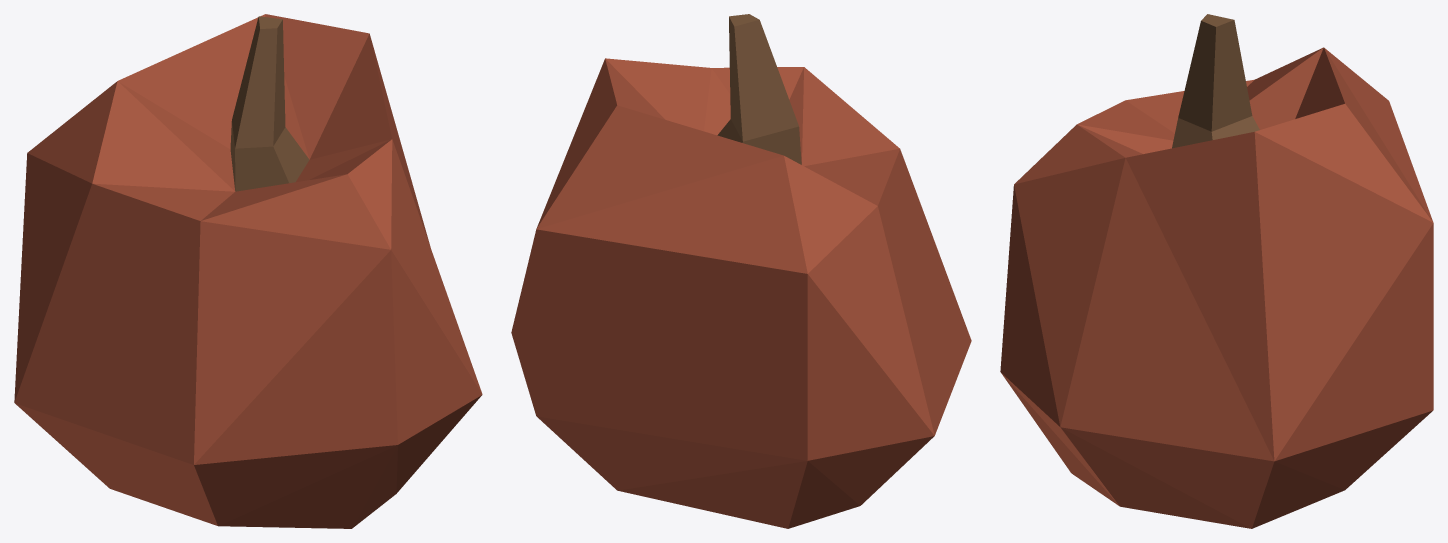
Rendered from fruit_b.glb.
3 renders of one model, left to right at view 1: azimuth 30°, elevation 25°; view 2: azimuth 150°, elevation 25°; view 3: azimuth 270°, elevation 25°, orthographic.
Parts seen in each view (by area): view 1: SM_Item_Fruit_02; view 2: SM_Item_Fruit_02; view 3: SM_Item_Fruit_02.
Boxes of the visible parts, bbox=[...] form: SM_Item_Fruit_02: bbox=[14, 14, 482, 528]; SM_Item_Fruit_02: bbox=[511, 14, 971, 528]; SM_Item_Fruit_02: bbox=[1000, 14, 1433, 528].
Size of the model in its own units: 17.72 by 18.07 by 15.65.
Materials: 1 (1 with a texture image).
